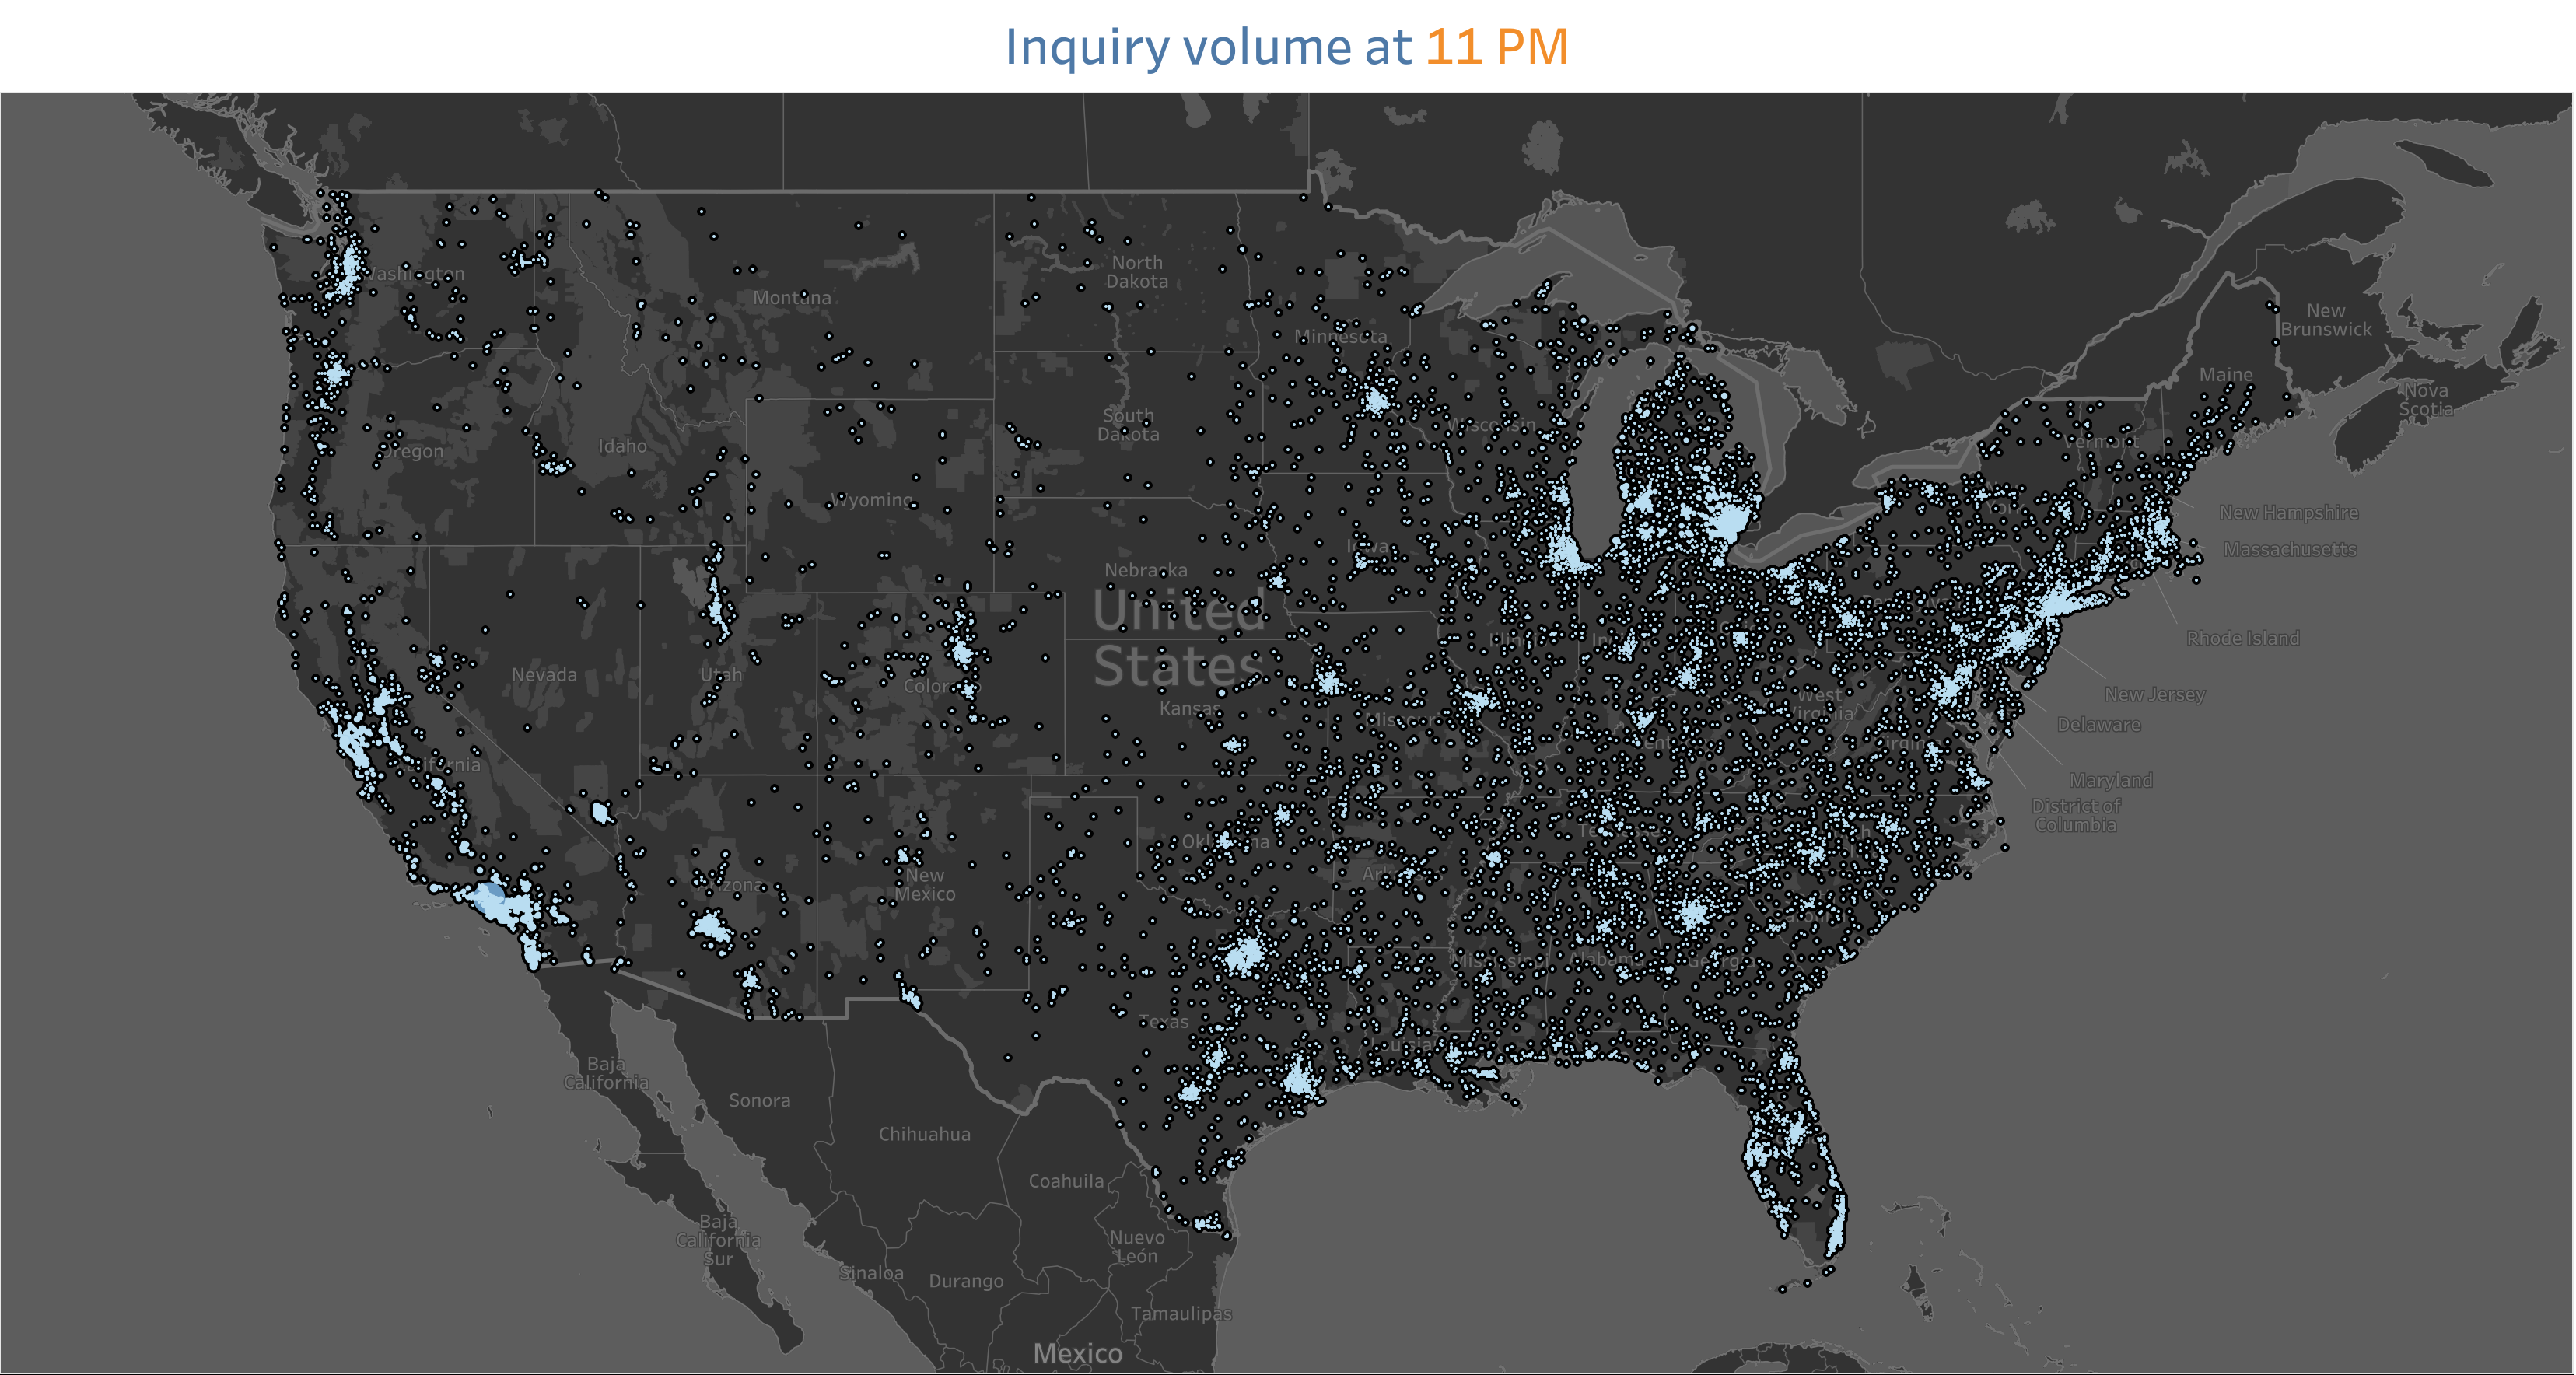

This screenshot's page, from the dashboard's own definition file:
{"tool":"tableau","page":{"name":"Dashboard 1","canvas":[1000,1000],"units":"permille","ordinal":0},"visuals":[{"type":"worksheet","title":"Sheet 1","mark":"Automatic","box":[4.7,8.8,990.6,982.3]},{"type":"currpage","title":"Sheet 1","box":[883,30.9,87.8,105]}]}

Visuals, with their boxes on the dashboard's canvas, which has no fixed pixel size, in thousandths of its width and height (x1, y1, x2, y2). These are canvas units, not pixel positions in the 2576x1375 screenshot, which may show the page scaled, cropped or inside an application window:
"Sheet 1" worksheet: Rect(5, 9, 995, 991)
"Sheet 1" currpage: Rect(883, 31, 971, 136)
